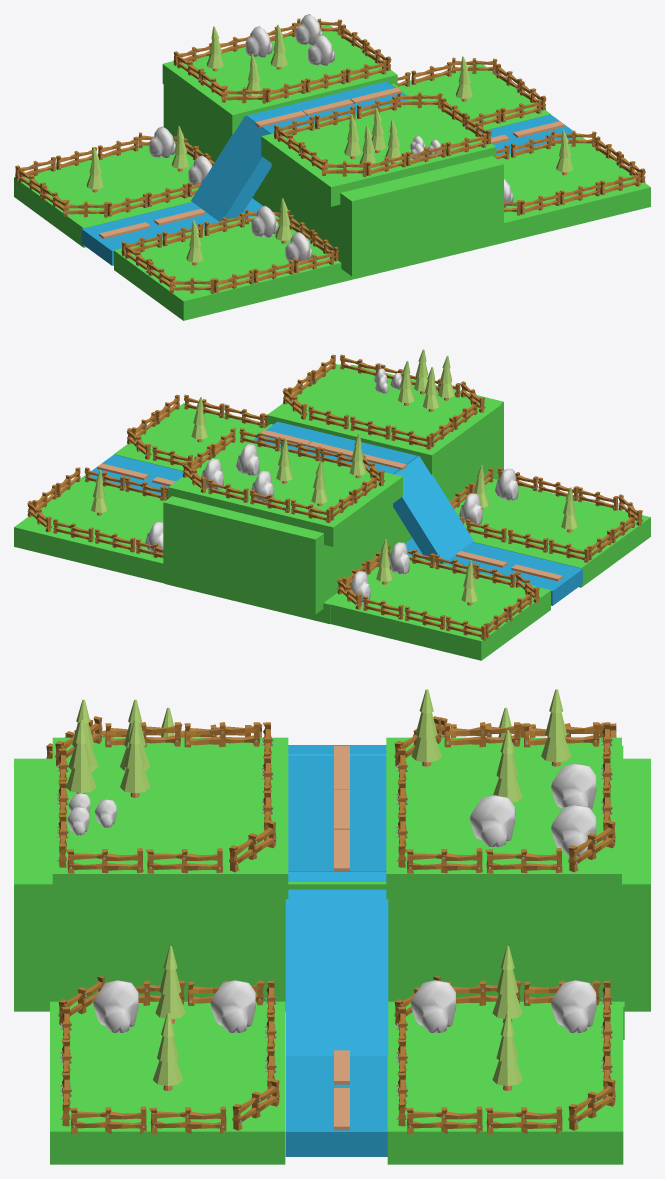
File: LowPolyWaterfallMap.glb
3 renders of one model, top to bottom at view 1: azimuth 30°, elevation 25°; view 2: azimuth 150°, elevation 25°; view 3: azimuth 270°, elevation 25°, orthographic. The views are drawn at different scales.
Parts seen in each view (by area): view 1: Cube.011, Cube.013, Cube, Cube.001, Cube.007, Cube.012, Cube.009, Cube.008, Cube.005, Cube.006, Cube.002, Cube.014 (+29 smaller); view 2: Cube.011, Cube.012, Cube, Cube.001, Cube.008, Cube.013, Cube.009, Cube.007, Cube.005, Cube.006, Cube.002, Cube.015 (+6 smaller); view 3: Cube.011, Cube, Cube.008, Cube.007, Cube.001, Cube.009, Cube.002, Cube.003, Cube.010, Stone_low_2.007, Stone_low_2.004, Stone_low_2.006 (+36 smaller).
Boxes of the visible parts, box(x1,y1,x2,y2) form: Cube.011: box(163, 48, 503, 276); Cube.013: box(114, 216, 348, 320); Cube: box(261, 98, 496, 206); Cube.001: box(162, 25, 397, 134); Cube.007: box(485, 137, 650, 246); Cube.012: box(14, 145, 198, 247); Cube.009: box(81, 114, 577, 265); Cube.008: box(398, 64, 550, 131); Cube.005: box(213, 115, 271, 193); Cube.006: box(191, 165, 263, 221); Cube.002: box(247, 81, 410, 133); Cube.014: box(275, 215, 498, 283); Cube.011: box(163, 364, 503, 614); Cube.012: box(324, 555, 550, 660); Cube: box(267, 364, 501, 474); Cube.001: box(168, 436, 402, 546); Cube.008: box(14, 476, 165, 583); Cube.013: box(454, 479, 650, 587); Cube.009: box(84, 454, 582, 605); Cube.007: box(114, 403, 264, 471); Cube.005: box(393, 456, 451, 533); Cube.006: box(401, 505, 473, 563); Cube.002: box(253, 422, 417, 474); Cube.015: box(164, 578, 330, 624); Cube.011: box(14, 758, 650, 1011); Cube: box(52, 737, 288, 906); Cube.008: box(387, 1001, 623, 1164); Cube.007: box(50, 1001, 285, 1164); Cube.001: box(386, 737, 621, 906); Cube.009: box(285, 745, 387, 1156); Cube.002: box(288, 756, 386, 871); Cube.003: box(285, 872, 388, 966); Cube.010: box(285, 984, 388, 1055); Stone_low_2.007: box(551, 980, 596, 1032); Stone_low_2.004: box(93, 980, 138, 1032); Stone_low_2.006: box(411, 980, 456, 1032).
Size of the model in its own units: 50.56 by 14.44 by 34.85.
139 materials, 72 textured.
